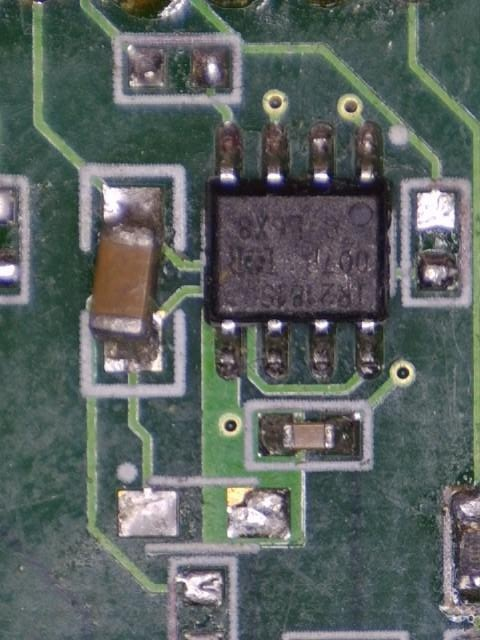pcb_defect: (89, 185, 165, 374)
